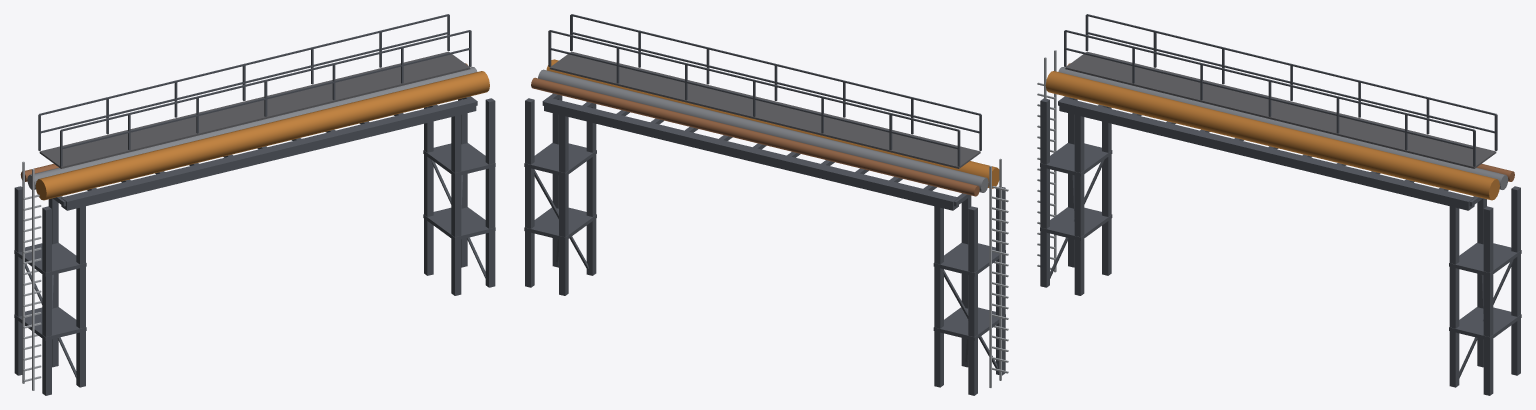
File: pipe_bridge_12m.glb
3 renders of one model, left to right at view 1: azimuth 30°, elevation 25°; view 2: azimuth 150°, elevation 25°; view 3: azimuth 330°, elevation 25°, orthographic.
Visible parts, largest first — view 1: pipe, catwalk, main_girder, pipe.001, tower_leg.006, tower_leg.004, tower_leg, tower_leg.002, tower_leg.001, tower_leg.005, tower_ring.003, tower_ring.002 (+10 smaller); view 2: catwalk, main_girder.001, pipe.002, pipe.001, tower_leg.001, tower_leg.007, tower_leg.005, tower_leg.003, pipe, tower_leg.004, tower_ring.003, tower_leg (+11 smaller); view 3: pipe, catwalk, main_girder, pipe.001, tower_leg.006, tower_leg.002, tower_leg.004, tower_leg, tower_leg.007, tower_leg.003, tower_ring.003, tower_ring.002 (+9 smaller).
Boxes of the visible parts, x1,y1,x2,y2 form: pipe: (35,71,489,200); catwalk: (39,51,470,168); main_girder: (61,97,476,210); pipe.001: (27,67,477,189); tower_leg.006: (485,98,495,287); tower_leg.004: (451,115,461,295); tower_leg: (42,206,51,395); tower_leg.002: (76,206,85,387); tower_leg.001: (14,186,22,375); tower_leg.005: (424,107,433,275); tower_ring.003: (423,143,495,176); tower_ring.002: (423,207,495,240); catwalk: (549,51,980,168); main_girder.001: (544,98,958,210); pipe.002: (531,77,979,196); pipe.001: (538,69,988,192); tower_leg.001: (968,206,977,395); tower_leg.007: (525,98,534,287); tower_leg.005: (559,114,568,295); tower_leg.003: (934,206,943,387); pipe: (546,59,999,188); tower_leg.004: (586,104,596,275); tower_ring.003: (524,143,596,176); tower_leg: (996,186,1005,375); pipe: (1045,71,1499,200); catwalk: (1065,51,1496,168); main_girder: (1059,98,1474,210); pipe.001: (1058,67,1508,189); tower_leg.006: (1483,206,1493,395); tower_leg.002: (1074,115,1084,295); tower_leg.004: (1449,206,1459,387); tower_leg: (1040,98,1049,287); tower_leg.007: (1511,186,1520,375); tower_leg.003: (1102,107,1111,275); tower_ring.003: (1449,243,1521,276); tower_ring.002: (1449,307,1521,340).
Size of what is drawn, in the model's own units: 13.55 by 7.24 by 1.7.
